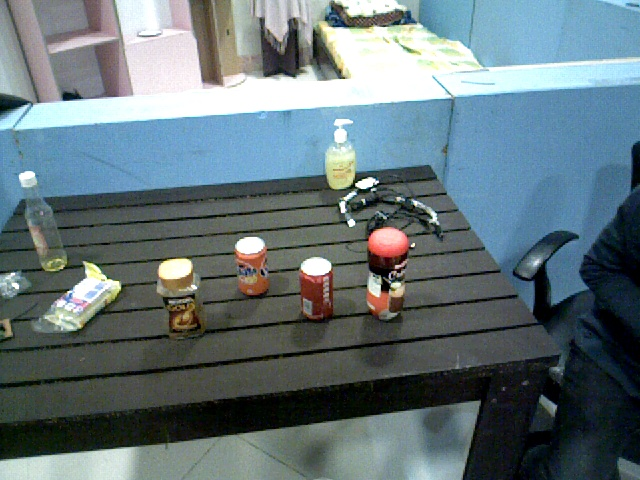coca: (301, 256, 334, 322)
coffee: (156, 261, 202, 339)
cream: (368, 228, 403, 322)
fanta: (236, 236, 269, 298)
